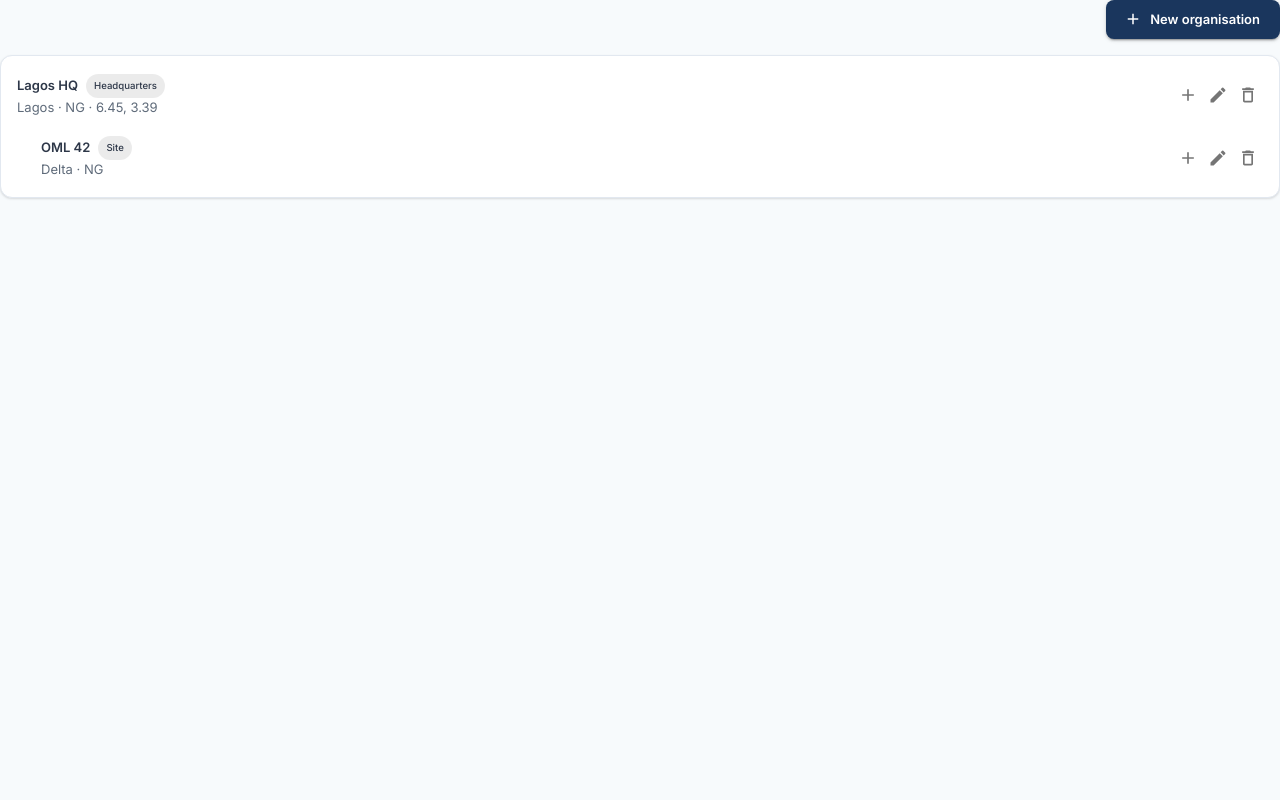
Test case: OrganisationsTab › the parent picker can't place an organisation under its own subtree
This screenshot has width=1280, height=800.
Click the button named "Edit Lagos HQ" at (1218, 95), box [1203,80,1233,110]
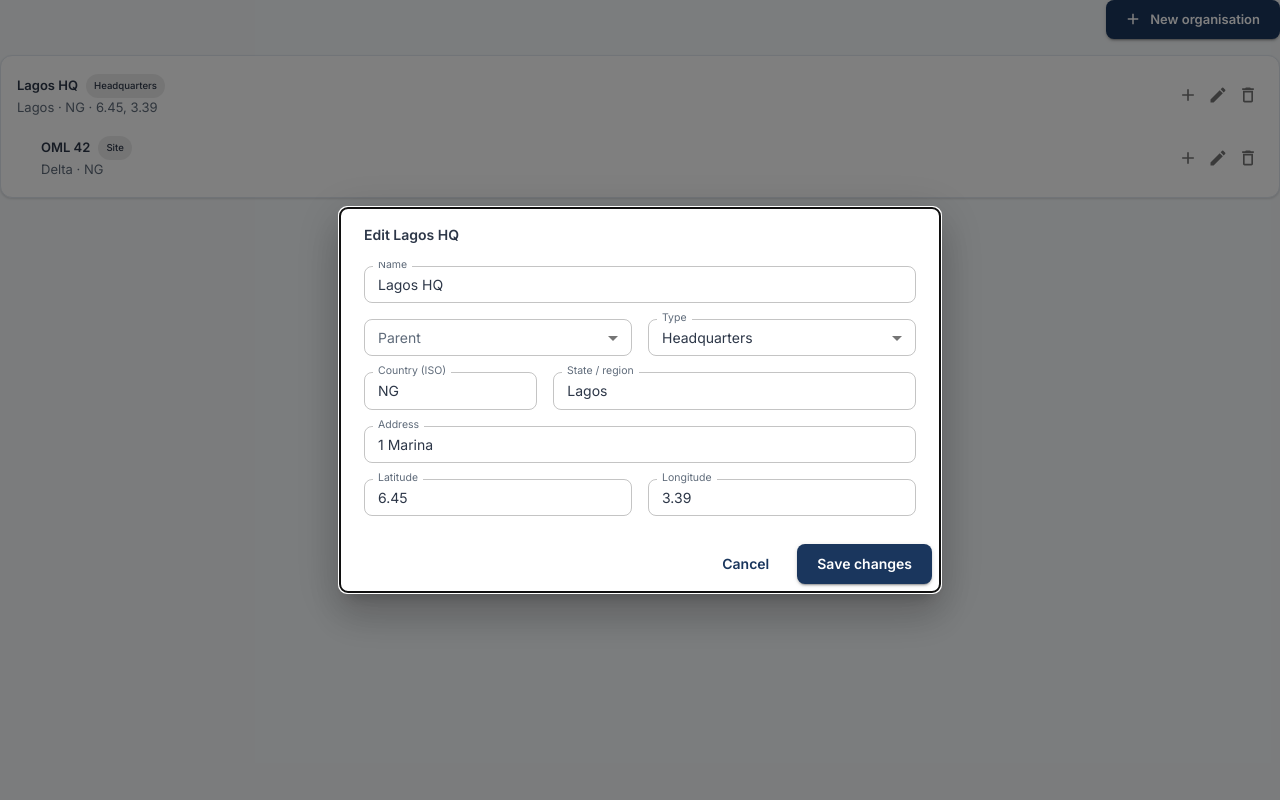
Click the 1st dropdown at (498, 338), box [364,319,632,356]
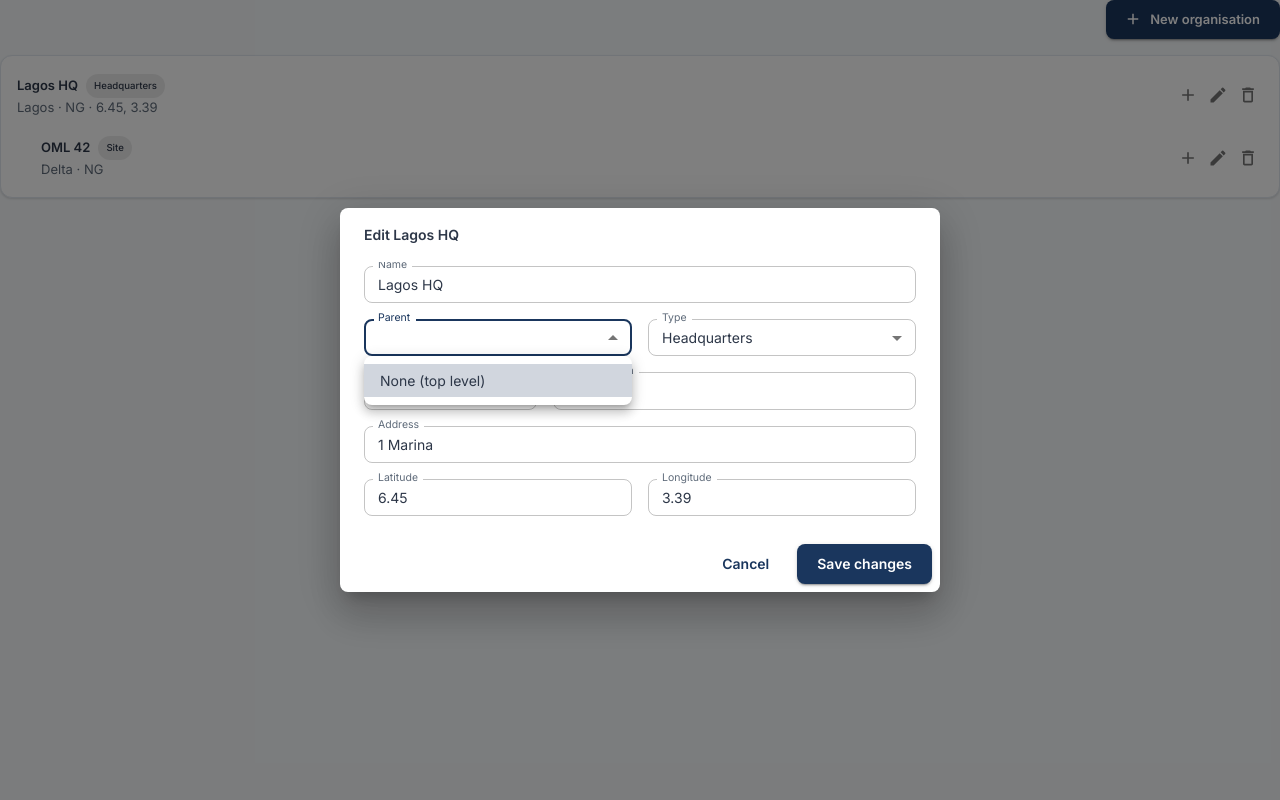
Now the options read "None (top level)", in this order, box [364,364,632,397]
